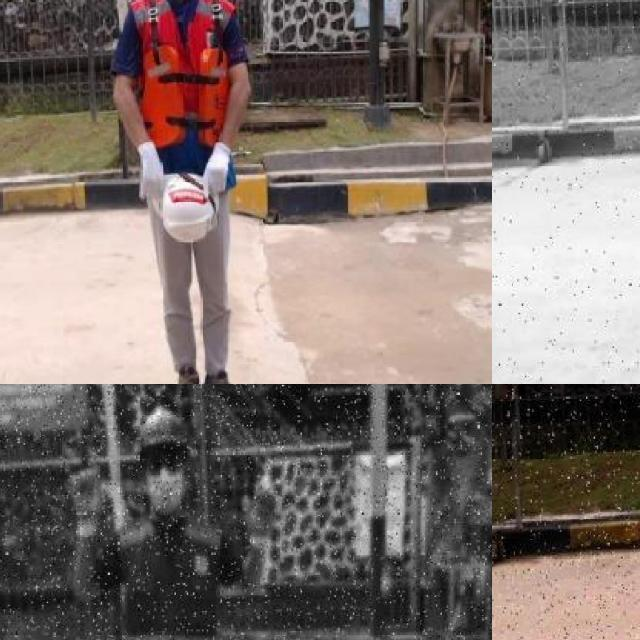apron: (240, 476, 286, 550), (66, 470, 110, 538), (138, 140, 163, 204), (204, 146, 232, 194)
